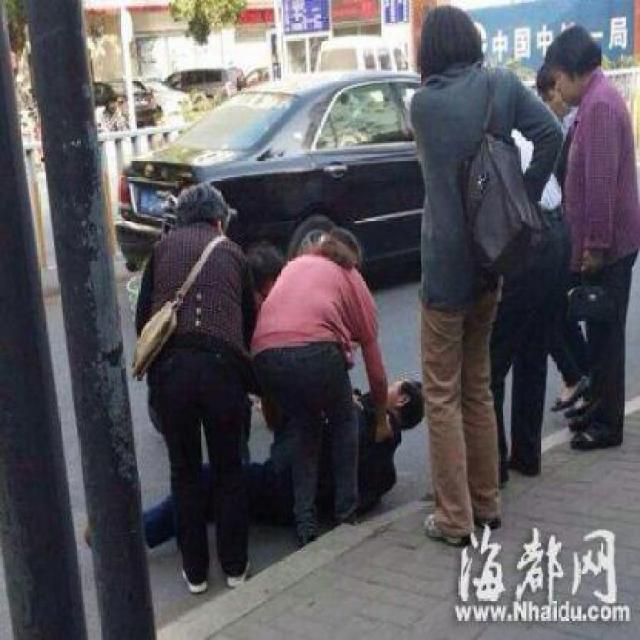fall: (143, 368, 431, 532)
